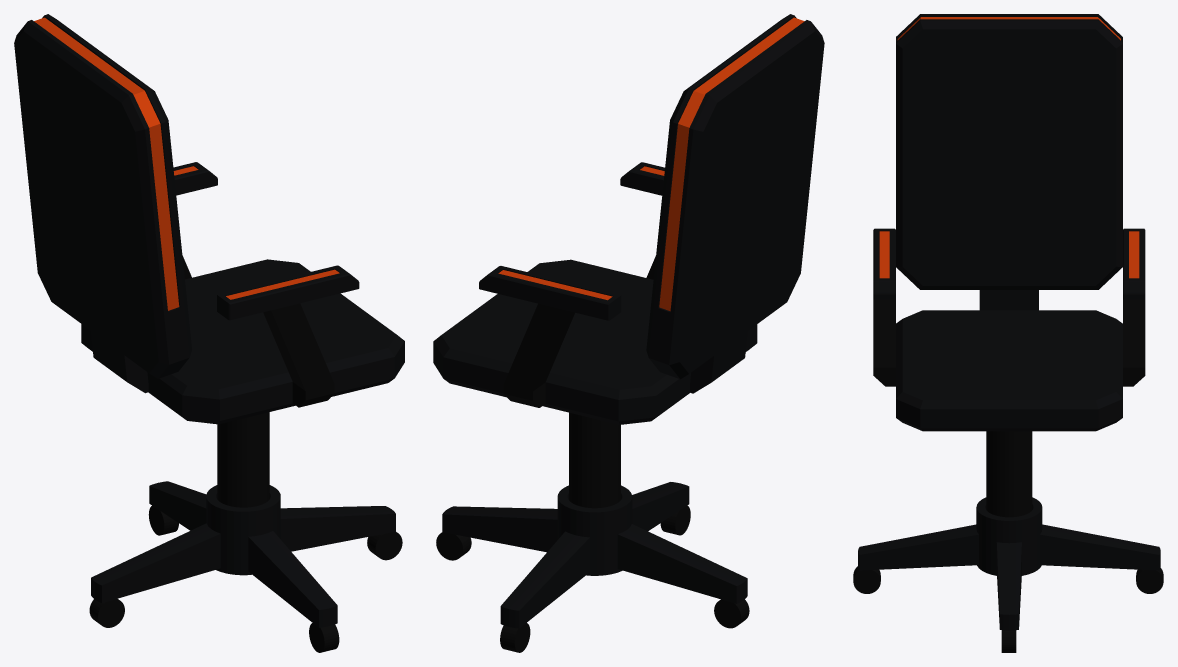
Rendered from SM_Chair.obj.
3 renders of one model, left to right at view 1: azimuth 30°, elevation 25°; view 2: azimuth 150°, elevation 25°; view 3: azimuth 270°, elevation 25°, orthographic. The views are drawn at different scales.
Parts seen in each view (by area): view 1: SM_Chair; view 2: SM_Chair; view 3: SM_Chair.
Part boxes in pixels (bbox=[...]): SM_Chair: bbox=[14, 14, 404, 652]; SM_Chair: bbox=[433, 14, 824, 652]; SM_Chair: bbox=[853, 14, 1163, 652].
Size of the model in its own units: 0.6399 by 1.08 by 0.5986.
